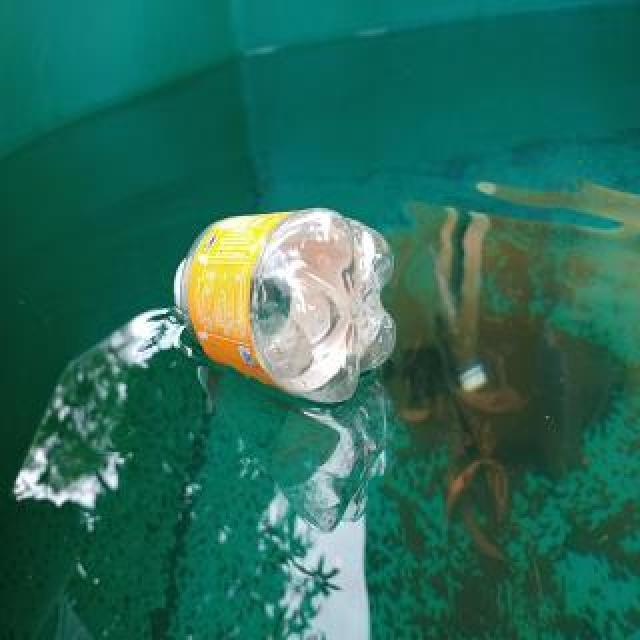bottle: (173, 207, 399, 405)
